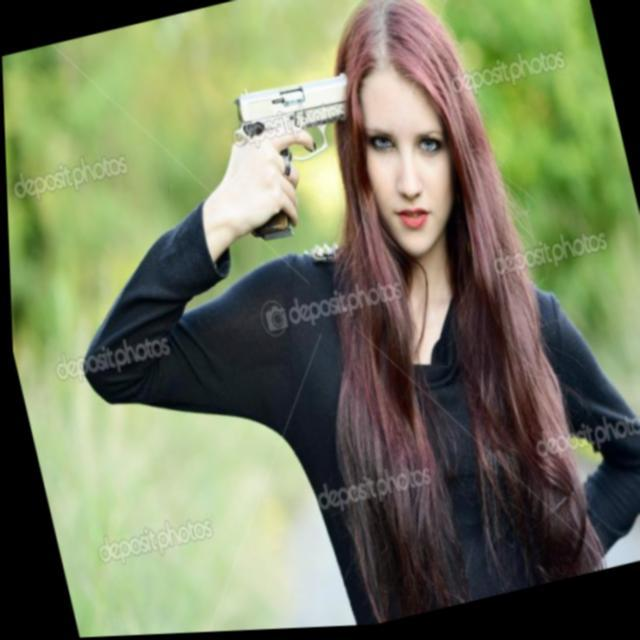weapon: (216, 68, 379, 250)
